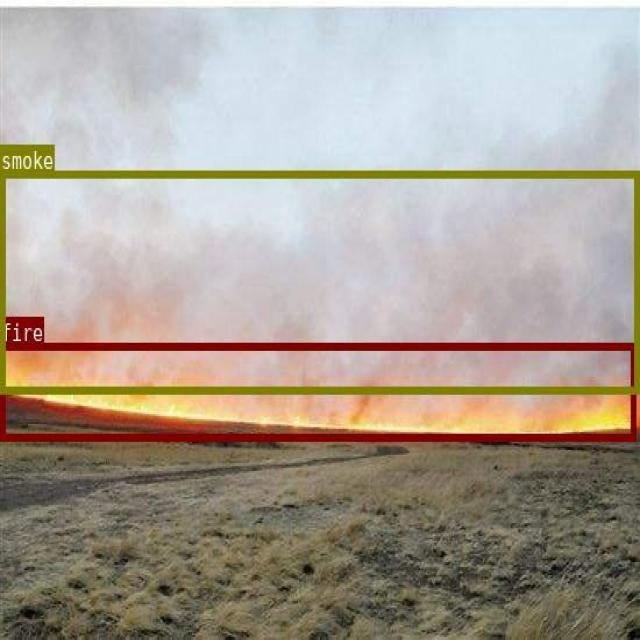fire: (0, 341, 635, 440)
smoke: (0, 171, 638, 392)
